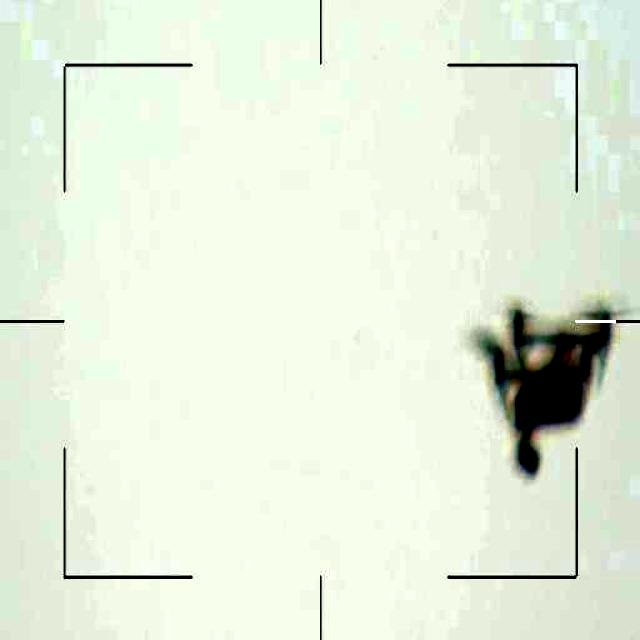bird: (456, 294, 618, 474)
